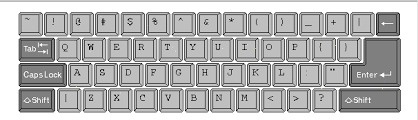keyboard: (14, 4, 405, 113)
